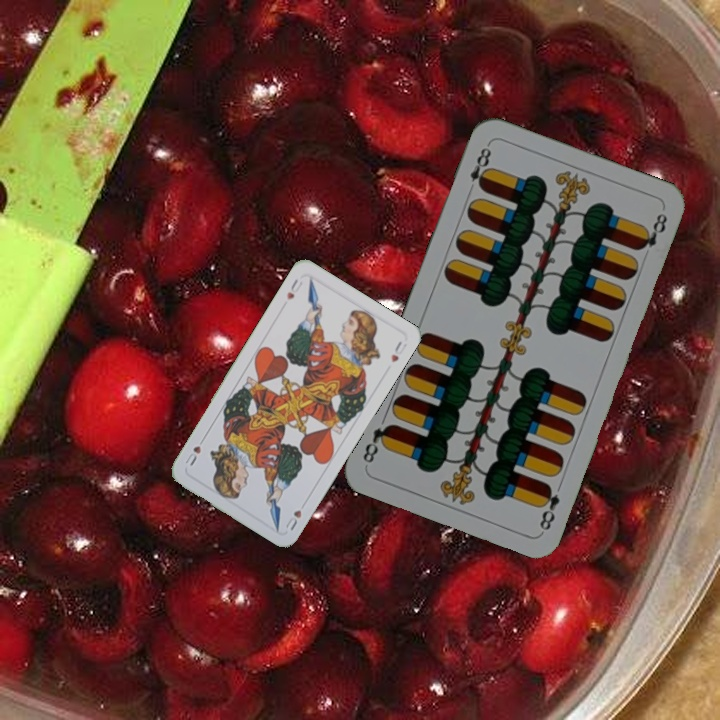E8: (463, 140, 494, 196), (535, 480, 563, 533)
HU: (281, 506, 304, 533), (283, 275, 305, 303)
